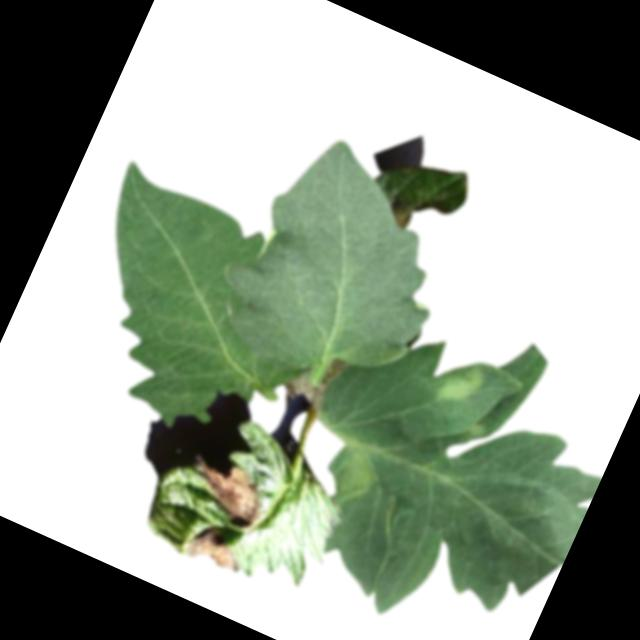Late_blight: (177, 445, 277, 533), (320, 430, 390, 513), (282, 341, 344, 410), (179, 519, 250, 578), (428, 350, 490, 417), (381, 189, 431, 234)
